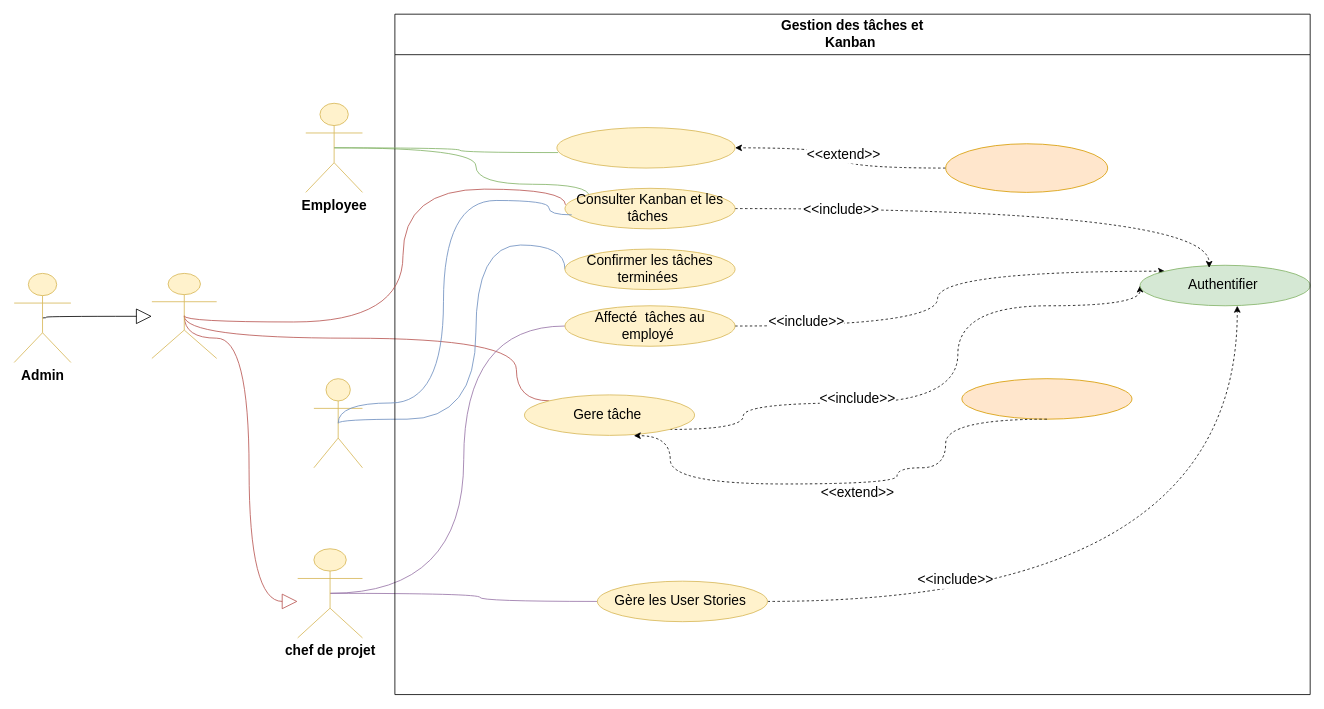
This 1324x709 diagram has some shape labels left out. The shapes that lost their labels are listed below. From the top down, each one's centre as x and y in pixels, then its label:
point 645,147: Mise a jour le statut d'une tache
point 1026,167: Déplacer par Drag & Drop
point 184,315: chef de Service
point 1046,398: Configurer Story/Sprint
point 337,423: Observateur
